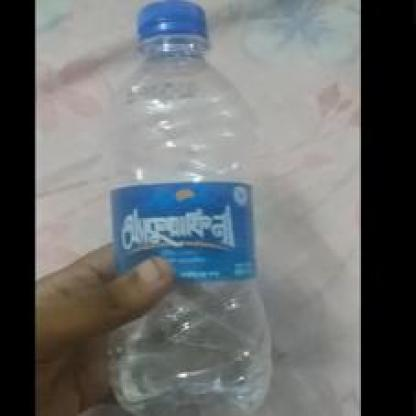bottle: (97, 0, 308, 414)
